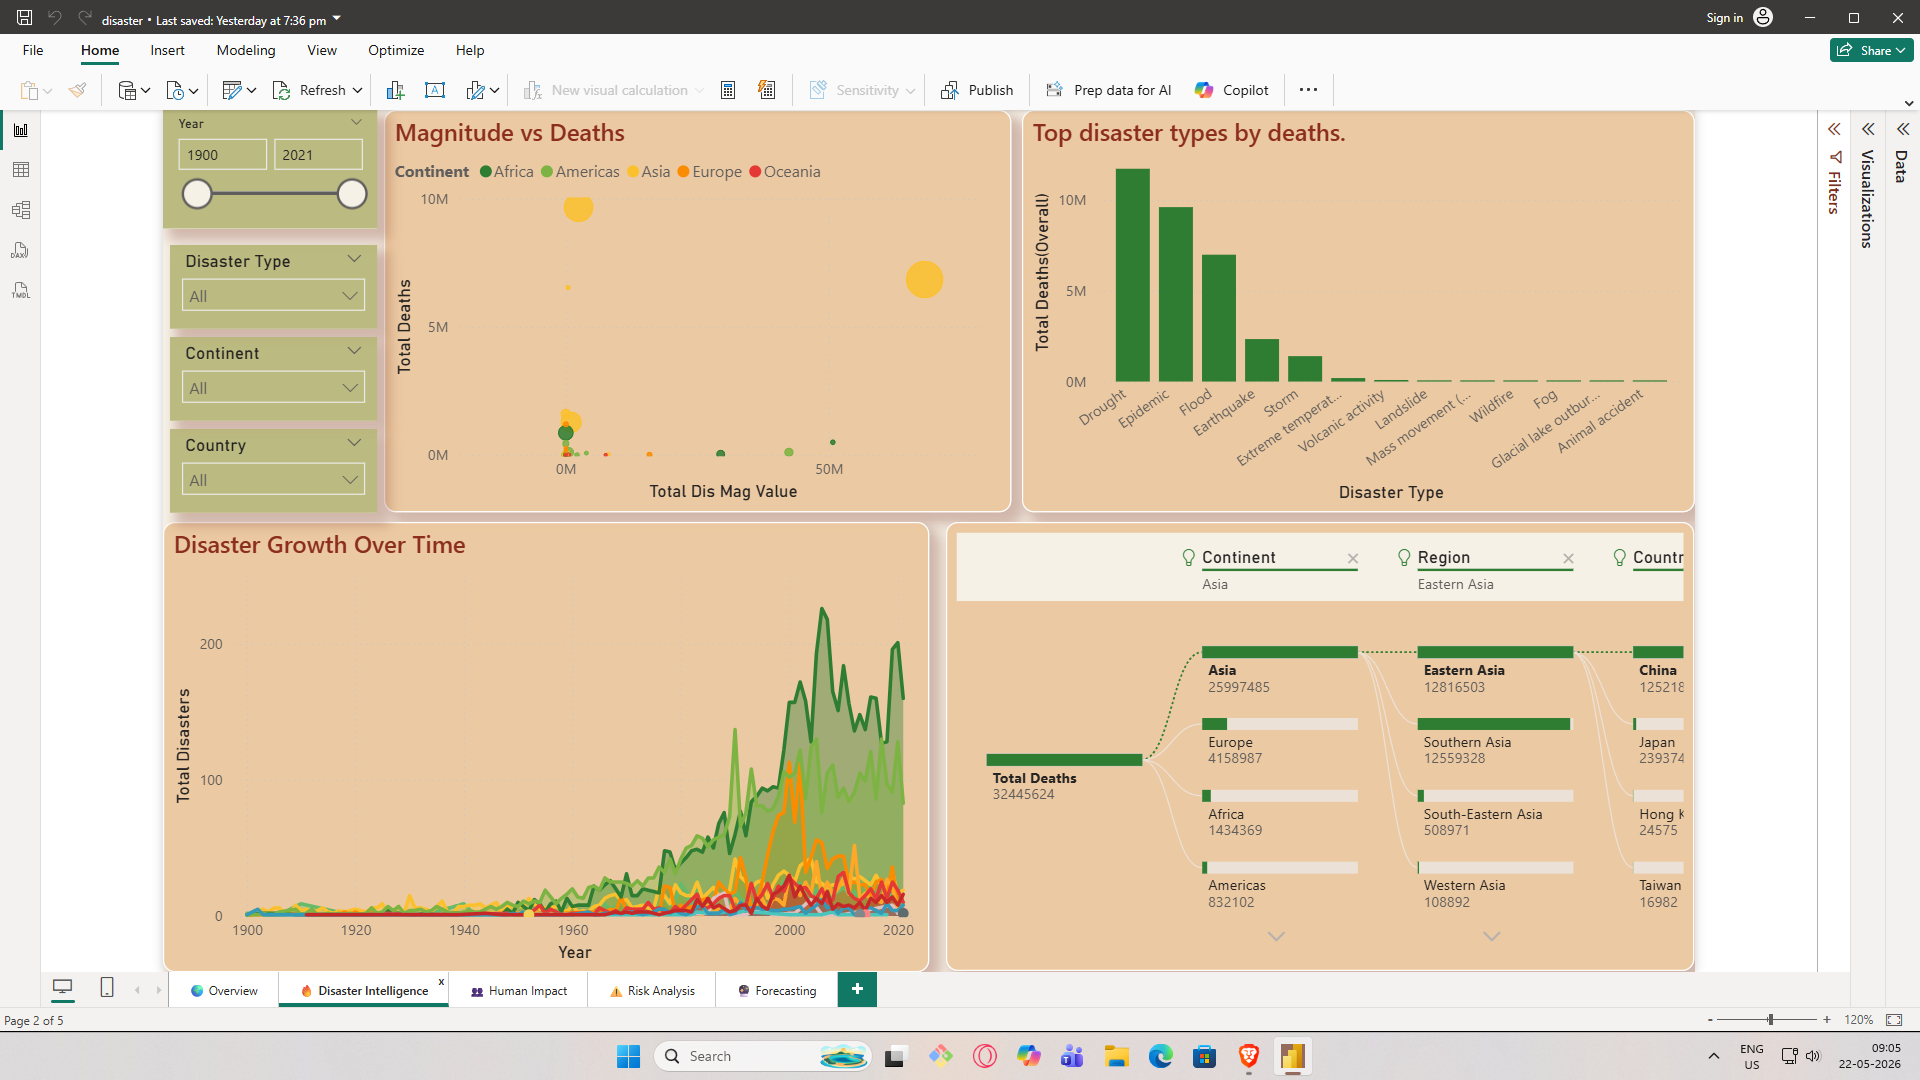

What the dashboard file says about the page in this screenshot:
{"tool":"powerbi","page":{"name":"🔥 Disaster Intelligence","canvas":[1280,720],"ordinal":1},"visuals":[{"type":"scatterChart","title":"Magnitude vs Deaths","fields":{"X":["Sum(Data.Dis Mag Value)"],"Y":["Sum(Data.Total Deaths)"],"Size":["Data.Total Affected(Overall)"],"Category":["Data.Disaster Type"],"Series":["Data.Continent"]},"box":[184.8,0,524.3,335.6],"z":0},{"type":"clusteredColumnChart","title":"Top disaster types by deaths.","fields":{"Category":["Data.Disaster Type"],"Y":["Data.Total Deaths(Overall)"]},"box":[717.3,0,562.4,335.8],"z":1000},{"type":"areaChart","title":"Disaster Growth Over Time","fields":{"Y":["Data.Total Disasters"],"Category":["Data.Year"],"Series":["Data.Disaster Type"]},"box":[0,343.9,640.3,376.1],"z":2000},{"type":"decompositionTreeVisual","fields":{"Analyze":["Sum(Data.Total Deaths)"],"ExplainBy":["Data.Continent","Data.Region","Data.Country","Data.Disaster Type"]},"box":[653.6,344.3,625.4,375.4],"z":3000},{"type":"slicer","fields":{"Values":["Data.Year"]},"box":[0,0,179,99.2],"z":4000},{"type":"slicer","fields":{"Values":["Data.Disaster Type"]},"box":[5.8,112.8,173,70],"z":5000},{"type":"slicer","fields":{"Values":["Data.Continent"]},"box":[5.8,189.7,173.1,70],"z":6000},{"type":"slicer","fields":{"Values":["Data.Country"]},"box":[5.8,266.5,173.1,70],"z":7000}]}

Visuals, with their boxes on the page's 1280x720 design canvas (x1, y1, x2, y2). These are canvas units, not pixel positions in the 1920x1080 screenshot, which may show the page scaled, cropped or inside an application window:
"Magnitude vs Deaths" scatterChart: 185, 0, 709, 336
"Top disaster types by deaths." clusteredColumnChart: 717, 0, 1280, 336
"Disaster Growth Over Time" areaChart: 0, 344, 640, 720
decompositionTreeVisual - Sum(Data.Total Deaths) x Data.Continent: 654, 344, 1279, 720
slicer - Data.Year: 0, 0, 179, 99
slicer - Data.Disaster Type: 6, 113, 179, 183
slicer - Data.Continent: 6, 190, 179, 260
slicer - Data.Country: 6, 266, 179, 336
